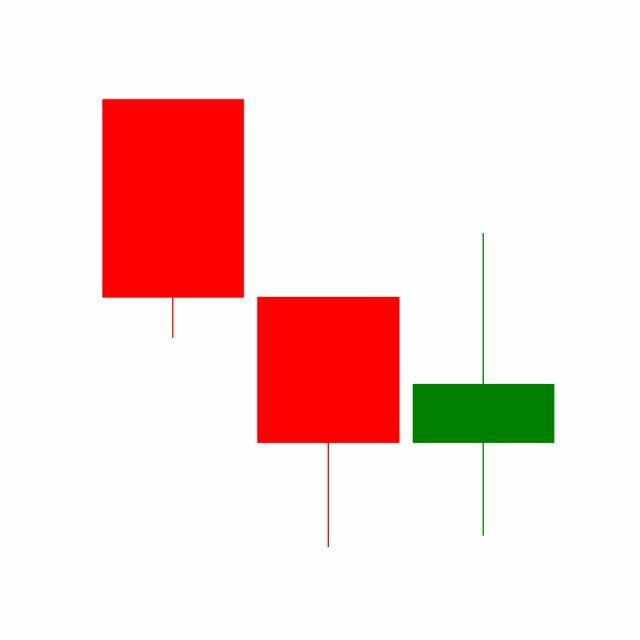Spinning Top: (406, 229, 562, 540)
